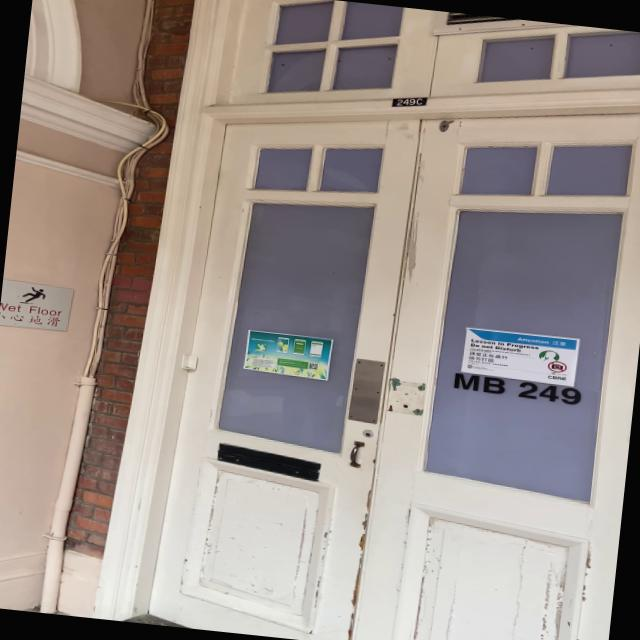room249c: (384, 89, 435, 111)
room249cWindow: (444, 370, 584, 407)
